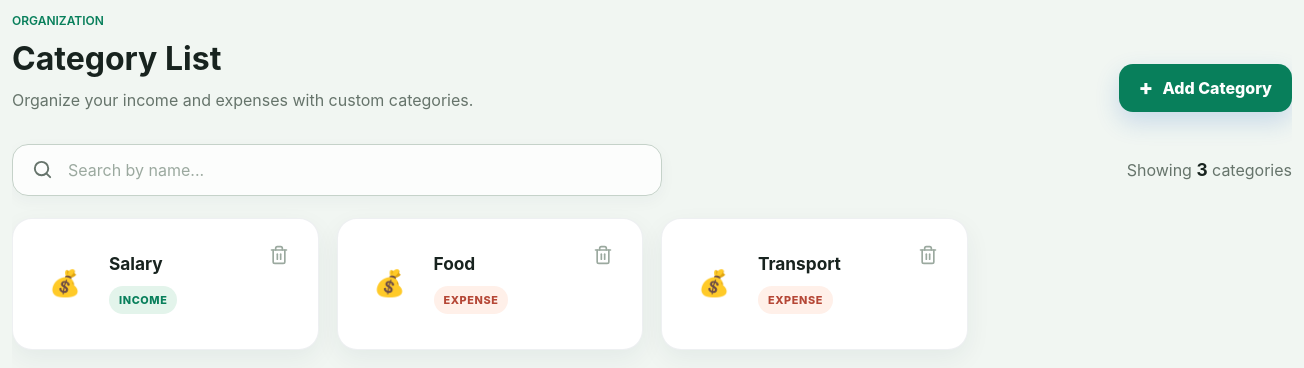
Test: CategoriesPage › filters categories by search text
In the search field named "Search categories by name": (354, 170) [66, 157, 643, 183], type "food"
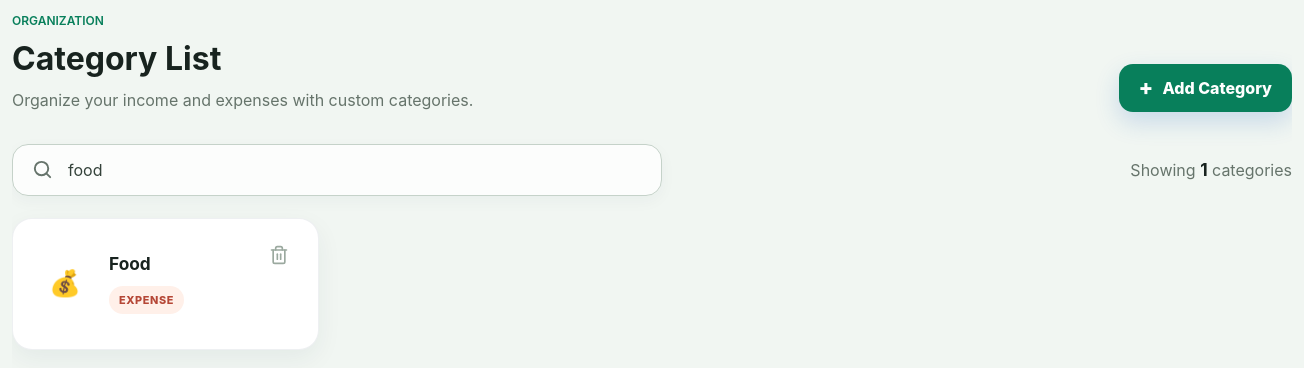
Check: the heading "Salary" is gone
Check: the heading "Transport" is gone
Check: the text "1" is shown, box [1200, 159, 1208, 180]
